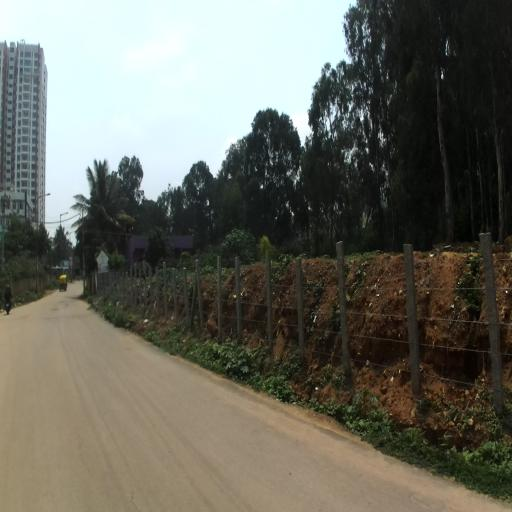street_light_0: (37, 193, 51, 199), (60, 212, 69, 216), (70, 230, 76, 235)
